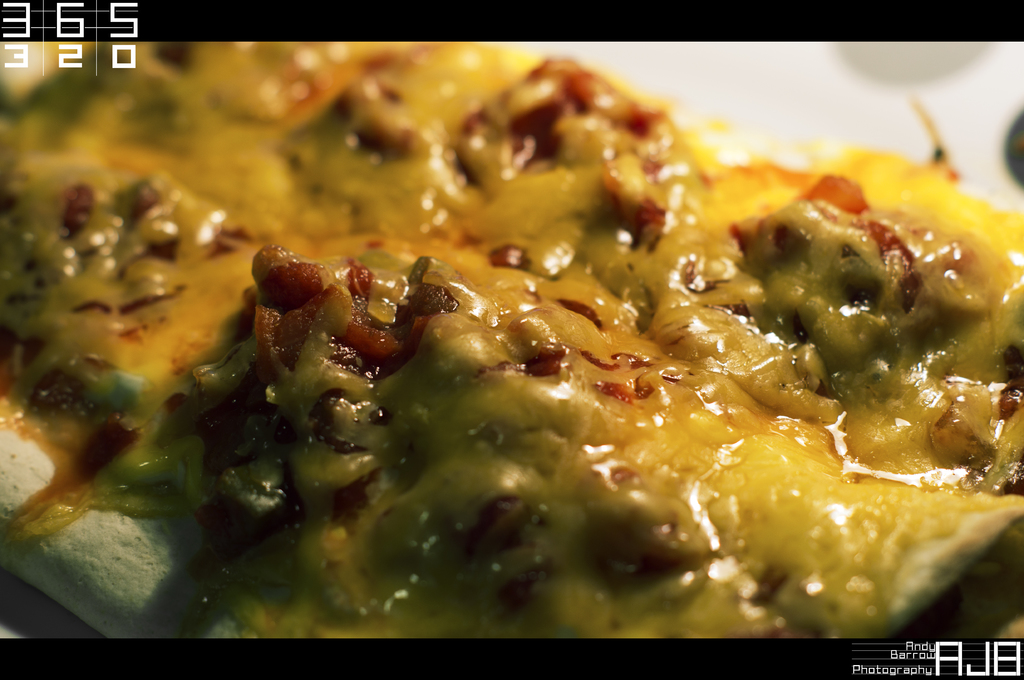Pizza: (0, 35, 1023, 652)
